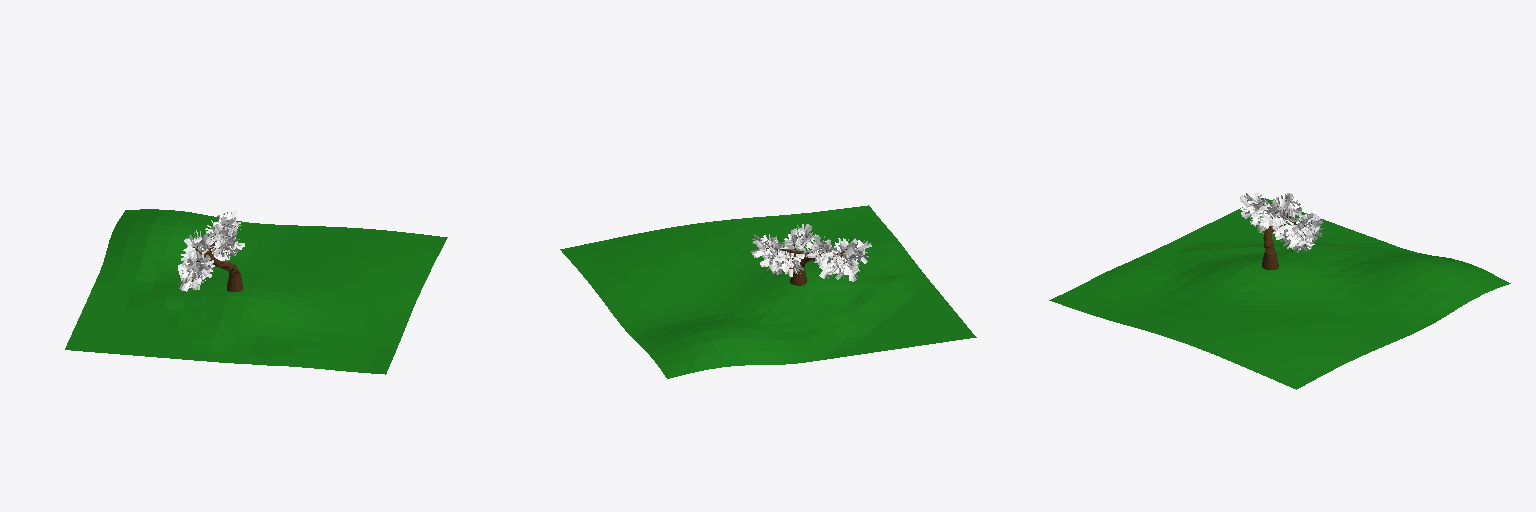
The model's file is stall.obj.
3 renders of one model, left to right at view 1: azimuth 30°, elevation 25°; view 2: azimuth 150°, elevation 25°; view 3: azimuth 270°, elevation 25°, orthographic.
Visible parts, largest first — view 1: Ground_Plane, Leaves, Trunk; view 2: Ground_Plane, Leaves; view 3: Ground_Plane, Leaves.
Boxes of the visible parts, x1=… form: Ground_Plane: x1=65, y1=209, x2=447, y2=374; Leaves: x1=178, y1=210, x2=244, y2=291; Trunk: x1=184, y1=224, x2=243, y2=291; Ground_Plane: x1=560, y1=205, x2=976, y2=378; Leaves: x1=751, y1=224, x2=871, y2=281; Ground_Plane: x1=1049, y1=198, x2=1510, y2=389; Leaves: x1=1240, y1=193, x2=1323, y2=252.
Size of the model in its own units: 36.91 by 6.87 by 36.95.